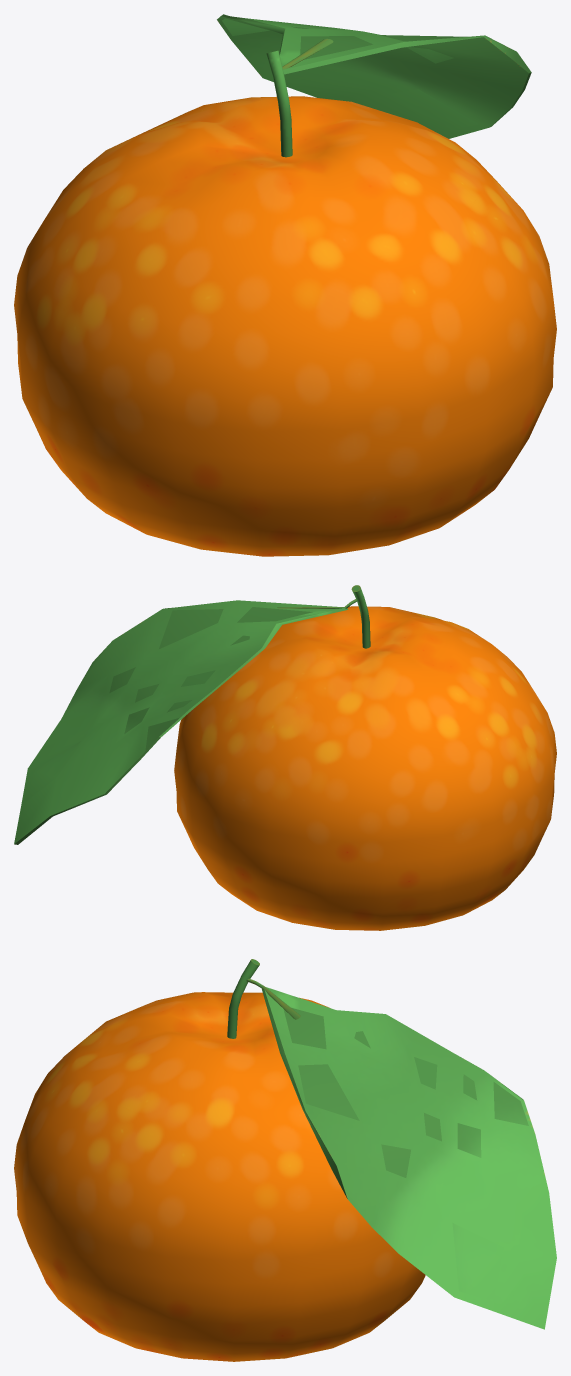
The model's file is orange.fbx.
3 renders of one model, top to bottom at view 1: azimuth 30°, elevation 25°; view 2: azimuth 150°, elevation 25°; view 3: azimuth 270°, elevation 25°, orthographic. The views are drawn at different scales.
Parts seen in each view (by area): view 1: pSphere2; view 2: pSphere2; view 3: pSphere2.
Boxes of the visible parts, <box> form: pSphere2: <box>14,14,556,556</box>; pSphere2: <box>14,585,556,930</box>; pSphere2: <box>14,959,556,1361</box>.
Size of the model in its own units: 4.08 by 3.01 by 4.11.
Materials: 1 (1 with a texture image).
